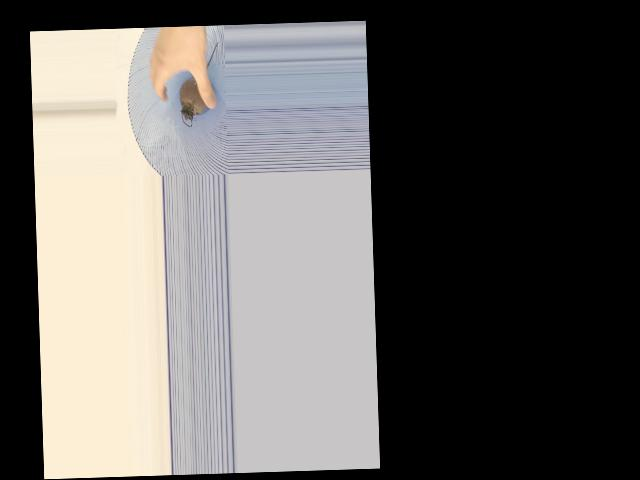beet: (177, 43, 220, 127)
